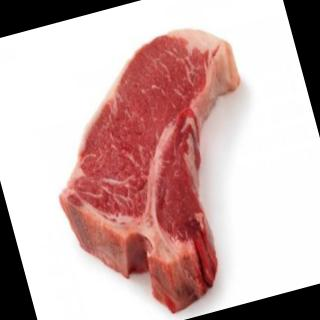Daging Sapi: (27, 15, 293, 320)
